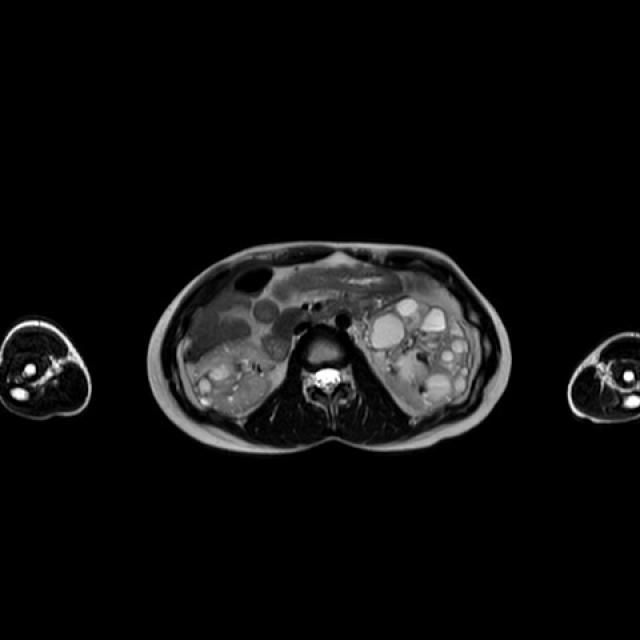sag: (191, 346, 276, 416)
sol: (365, 296, 476, 412)
